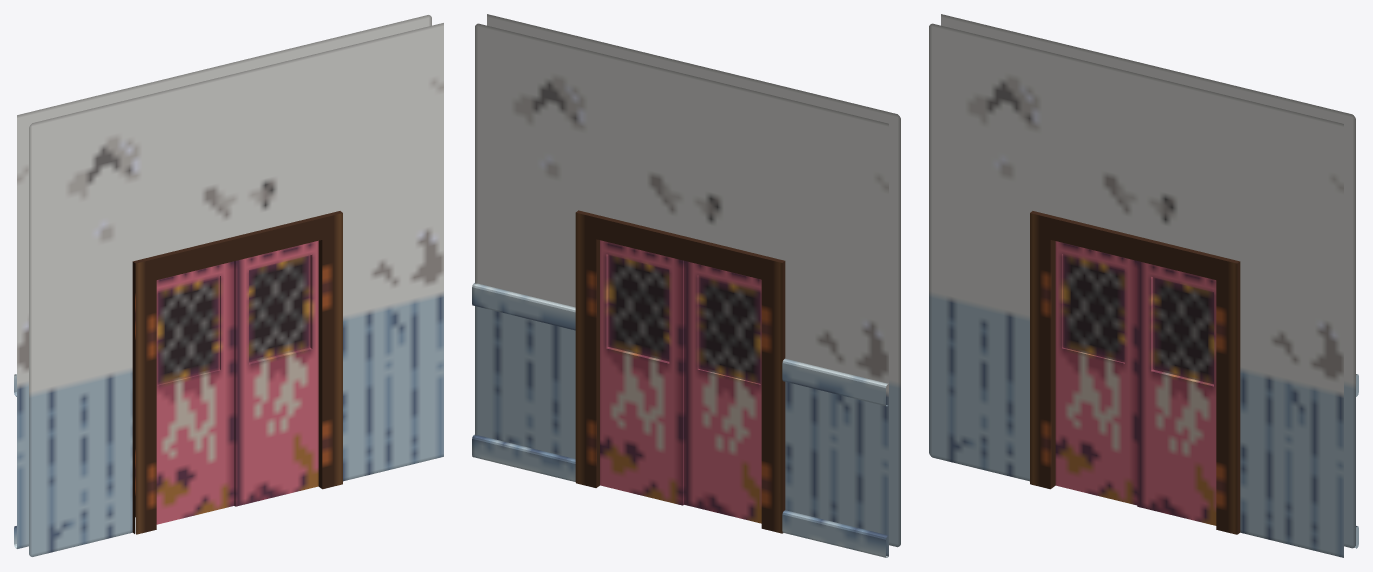
The model's file is Wall_Door_TipoA.fbx.
3 renders of one model, left to right at view 1: azimuth 30°, elevation 25°; view 2: azimuth 150°, elevation 25°; view 3: azimuth 330°, elevation 25°, orthographic.
Visible parts, largest first — view 1: Cube.097, Cube.099, Cube.098; view 2: Cube.097, Cube.099, Cube.098, Cube.100, Cube.101; view 3: Cube.097, Cube.099, Cube.098.
Boxes of the visible parts, box(x1,y1,x2,y2) form: Cube.097: box(17, 15, 443, 556); Cube.099: box(156, 240, 318, 524); Cube.098: box(132, 211, 342, 534); Cube.097: box(475, 14, 900, 556); Cube.099: box(600, 240, 761, 523); Cube.098: box(575, 210, 785, 533); Cube.100: box(472, 283, 888, 406); Cube.101: box(472, 434, 887, 557); Cube.097: box(929, 14, 1355, 557); Cube.099: box(1055, 241, 1216, 525); Cube.098: box(1030, 211, 1240, 534).
Size of the model in its own units: 400 by 400 by 30.
